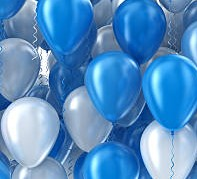Balloon: (1, 96, 61, 168), (143, 53, 197, 130), (84, 53, 140, 122), (35, 1, 93, 54), (114, 1, 166, 60), (1, 37, 39, 100), (85, 142, 139, 179)
